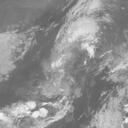cyclone: (57, 14, 99, 52)
